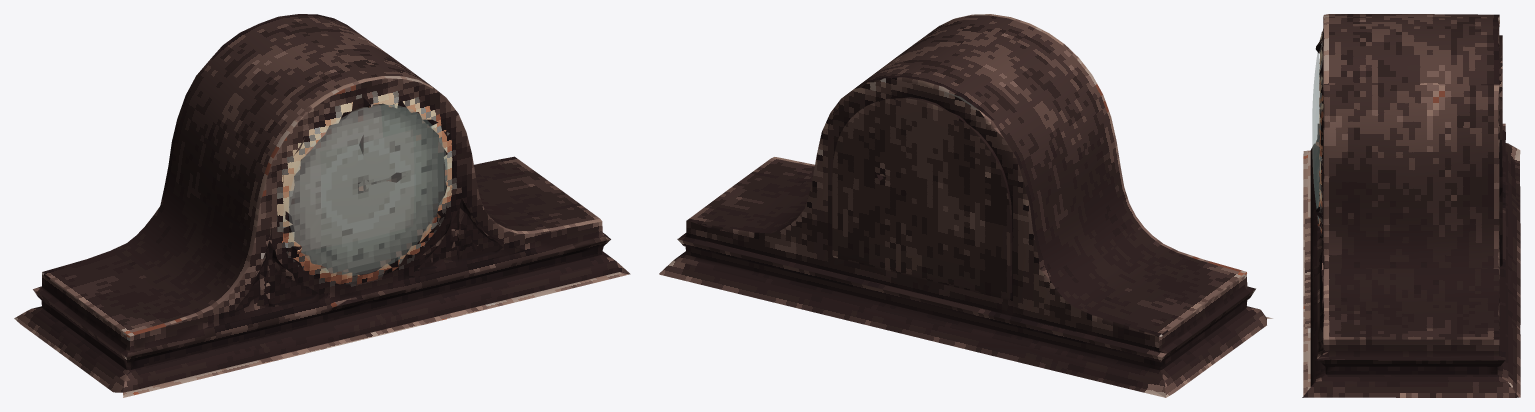
File: mantel_clock_01.glb
The picture shows the model from 3 angles, left to right: view 1: azimuth 30°, elevation 25°; view 2: azimuth 150°, elevation 25°; view 3: azimuth 270°, elevation 25°; orthographic projection.
Visible parts, largest first — view 1: body, glass; view 2: body; view 3: body, glass.
Part boxes in pixels (<box>): body: <box>14,14,630,397</box>; glass: <box>288,104,447,275</box>; body: <box>659,14,1272,397</box>; body: <box>1302,14,1520,397</box>; glass: <box>1312,53,1319,223</box>.
Bounding box in the file's own units: 0.3439 × 0.1605 × 0.128.
2 materials, 2 textured.
